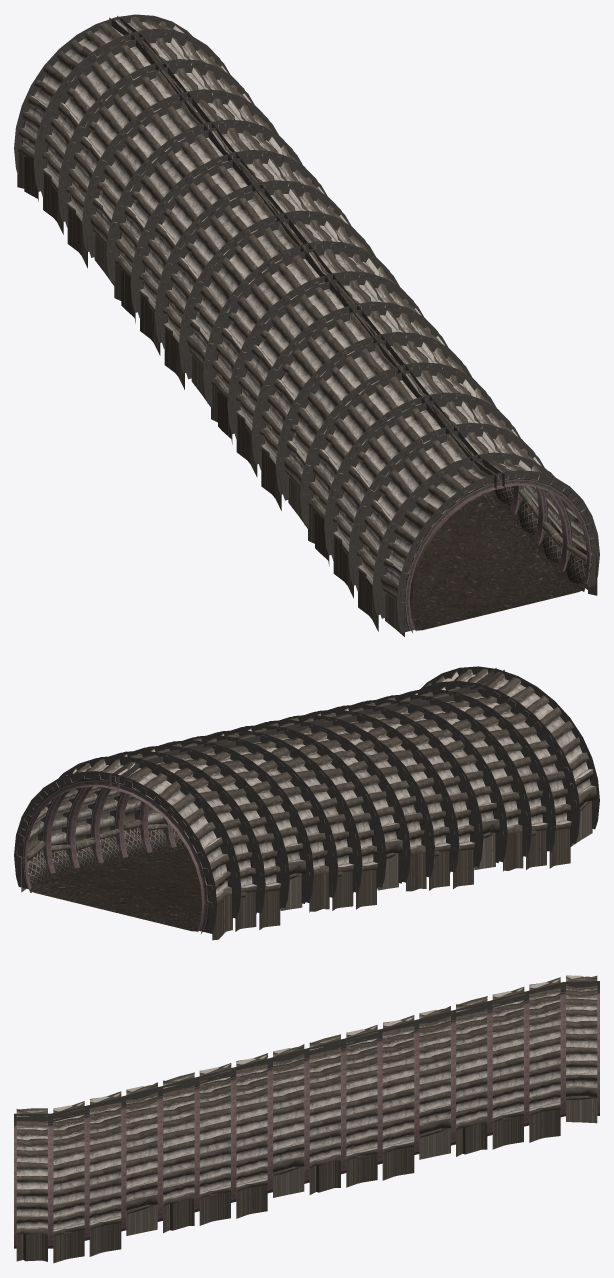
Rendered from tunnel_tile_6.dae.
3 renders of one model, top to bottom at view 1: azimuth 30°, elevation 25°; view 2: azimuth 150°, elevation 25°; view 3: azimuth 270°, elevation 25°, orthographic. The views are drawn at different scales.
Parts seen in each view (by area): view 1: Walls, Ground, Chainlink, Wood; view 2: Walls, Ground, Chainlink, Wood; view 3: Walls, Wood.
Part boxes in pixels (x1=…): Walls: x1=14, y1=14, x2=599, y2=636; Ground: x1=411, y1=490, x2=587, y2=630; Chainlink: x1=411, y1=486, x2=592, y2=632; Wood: x1=49, y1=179, x2=591, y2=604; Walls: x1=14, y1=666, x2=599, y2=940; Ground: x1=26, y1=844, x2=202, y2=931; Chainlink: x1=22, y1=802, x2=590, y2=933; Wood: x1=22, y1=801, x2=589, y2=908; Walls: x1=14, y1=975, x2=599, y2=1263; Wood: x1=62, y1=1096, x2=592, y2=1234.
Bounding box in the file's own units: 6.06 × 20 × 9.37.
